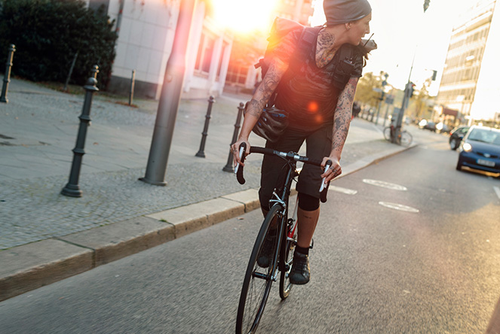bikerider: (221, 1, 379, 332)
